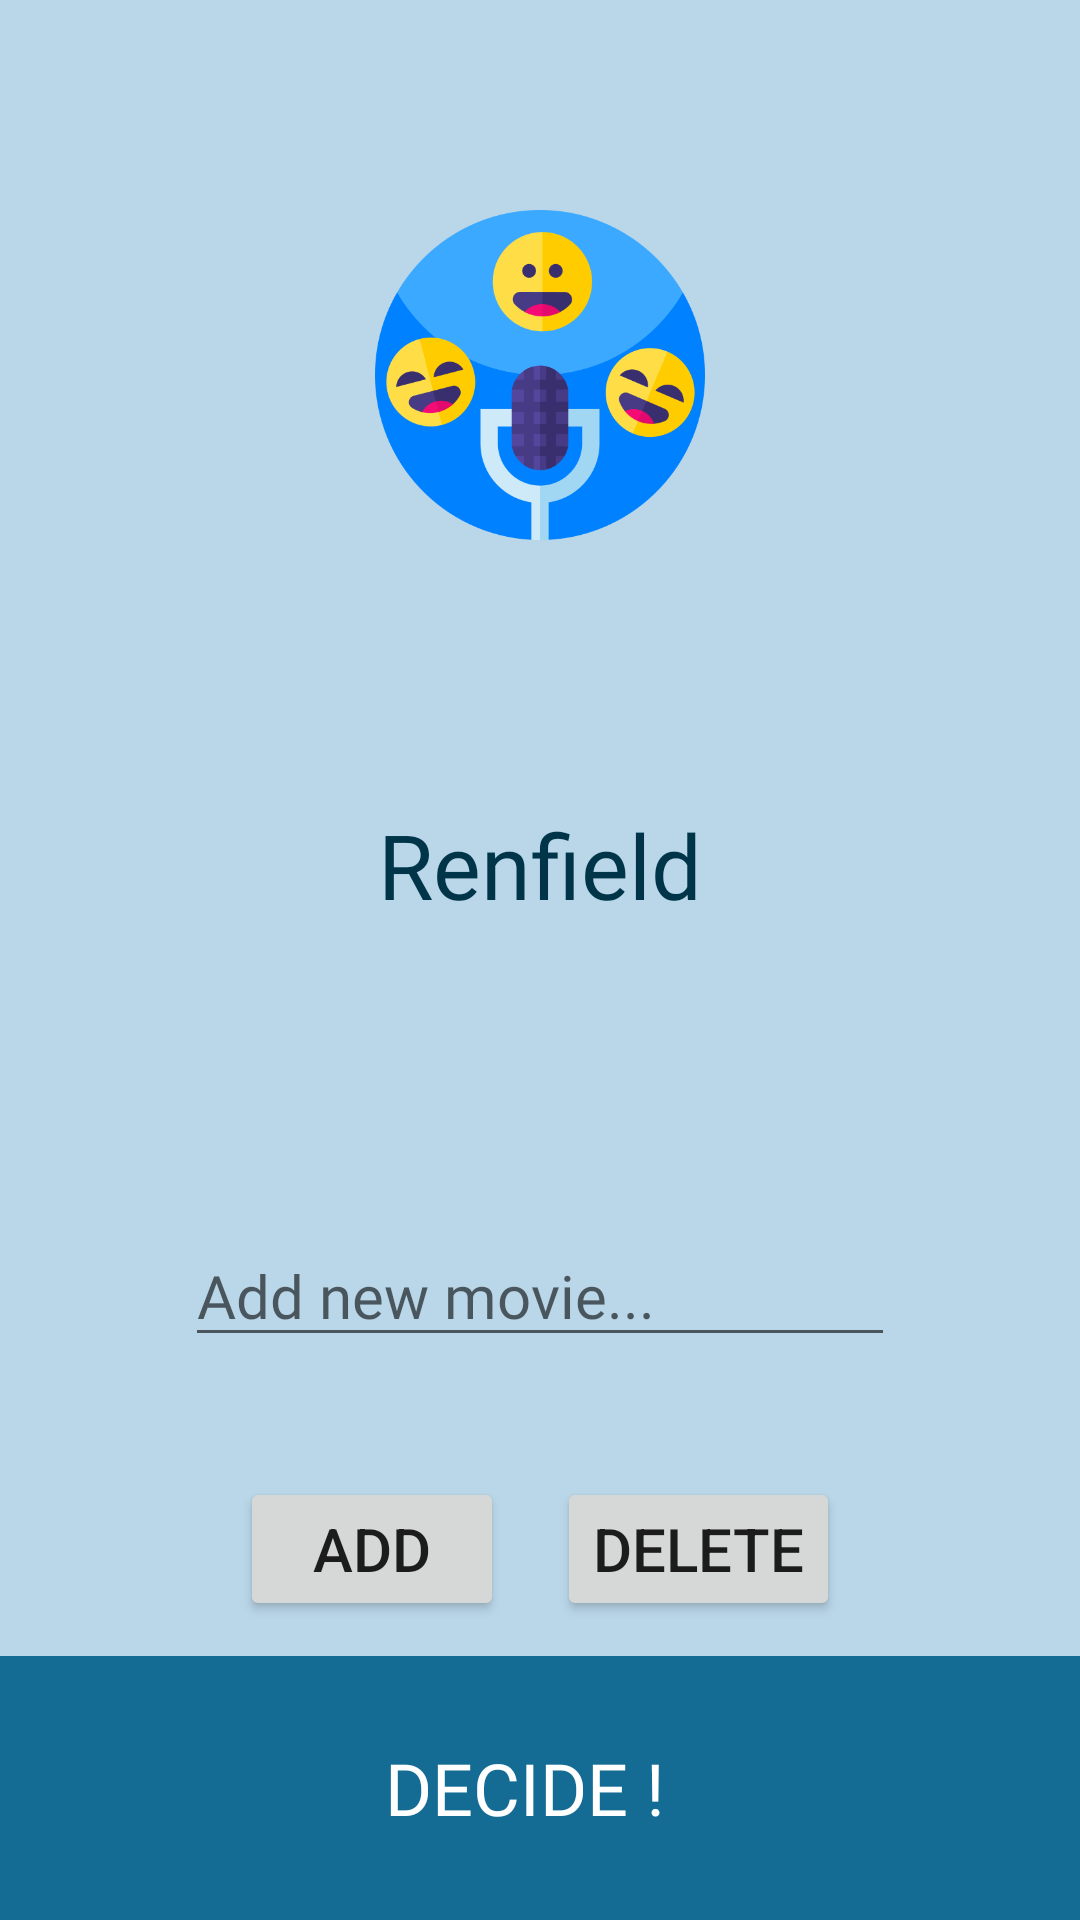

Icon click points for this 1080px x 1920px phone screenshot, format point (x, y):
comedy: point (540, 375)
